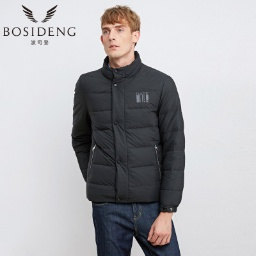face: (100, 5, 142, 58)
